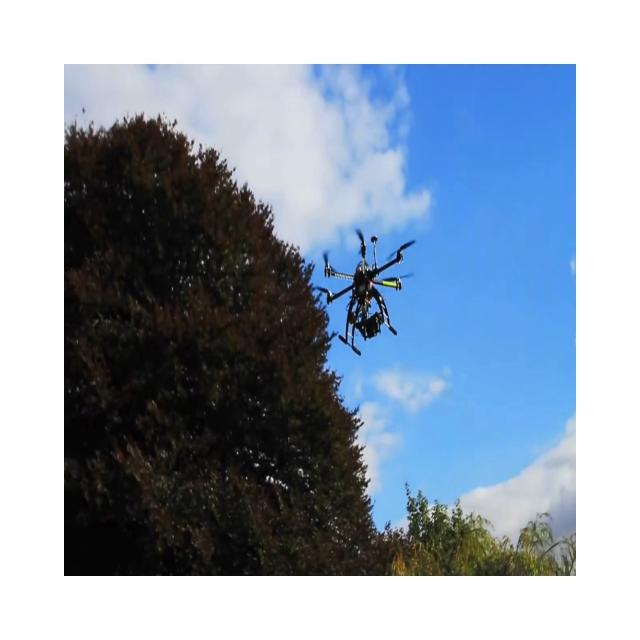drone: (311, 227, 416, 356)
